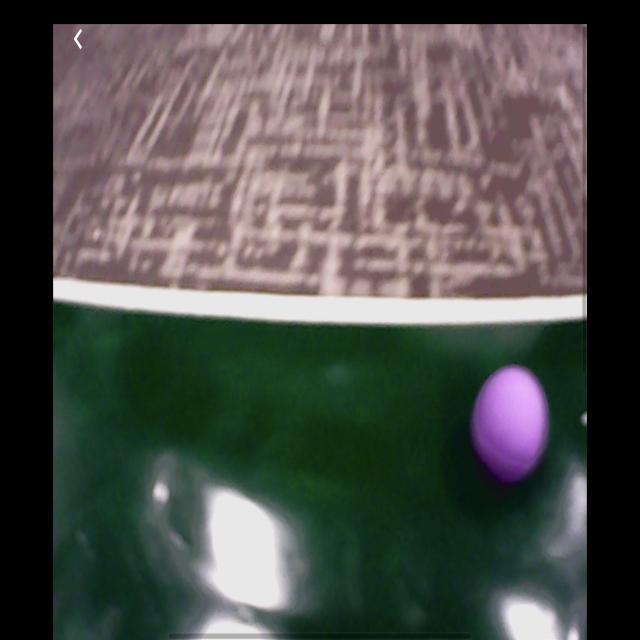ball: (469, 363, 550, 484)
